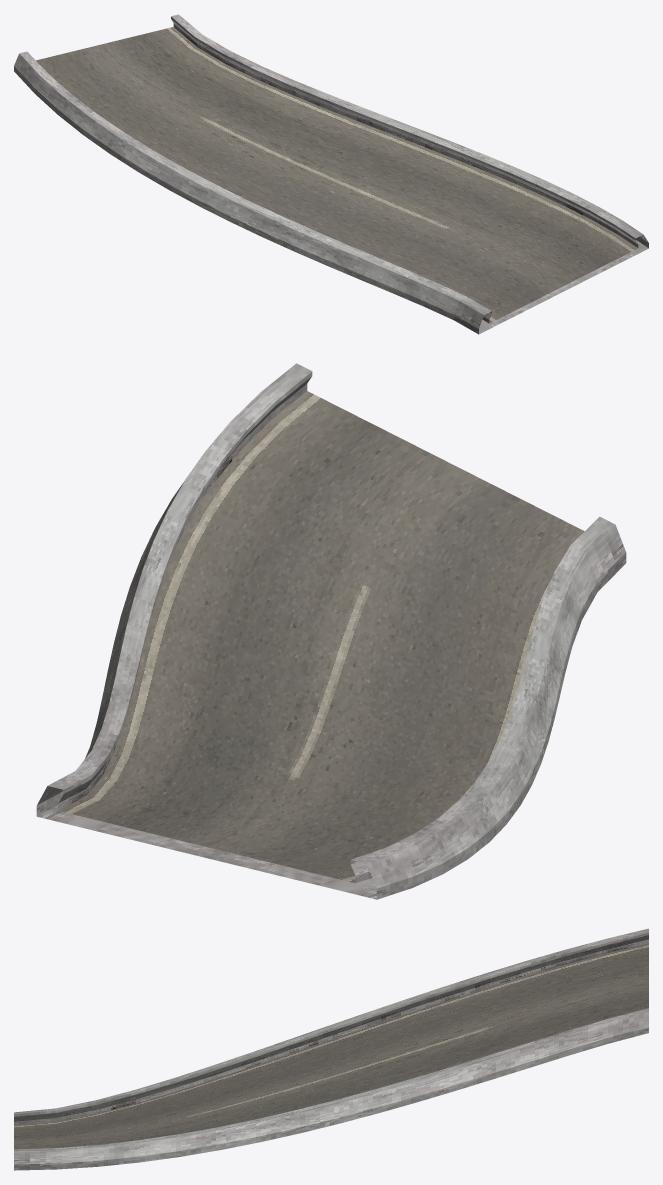
File: road-Chicane-HalfBankedLeft-BiSlopeUp-Up2-Left1-Size3.glb
3 views of the same model, one above another, from view 1: azimuth 30°, elevation 25°; view 2: azimuth 150°, elevation 25°; view 3: azimuth 270°, elevation 25° (orthographic). The views are drawn at different scales.
Visible parts, largest first — view 1: road-Chicane-HalfBankedLeft-BiSlopeUp-Up2-Left1-Size3; view 2: road-Chicane-HalfBankedLeft-BiSlopeUp-Up2-Left1-Size3; view 3: road-Chicane-HalfBankedLeft-BiSlopeUp-Up2-Left1-Size3.
Boxes of the visible parts, bbox=[...] form: road-Chicane-HalfBankedLeft-BiSlopeUp-Up2-Left1-Size3: bbox=[14, 14, 648, 334]; road-Chicane-HalfBankedLeft-BiSlopeUp-Up2-Left1-Size3: bbox=[36, 363, 626, 899]; road-Chicane-HalfBankedLeft-BiSlopeUp-Up2-Left1-Size3: bbox=[14, 928, 648, 1170].
Bounding box in the file's own units: 2 × 0.5937 × 3.
Materials: 2 (2 with a texture image).
